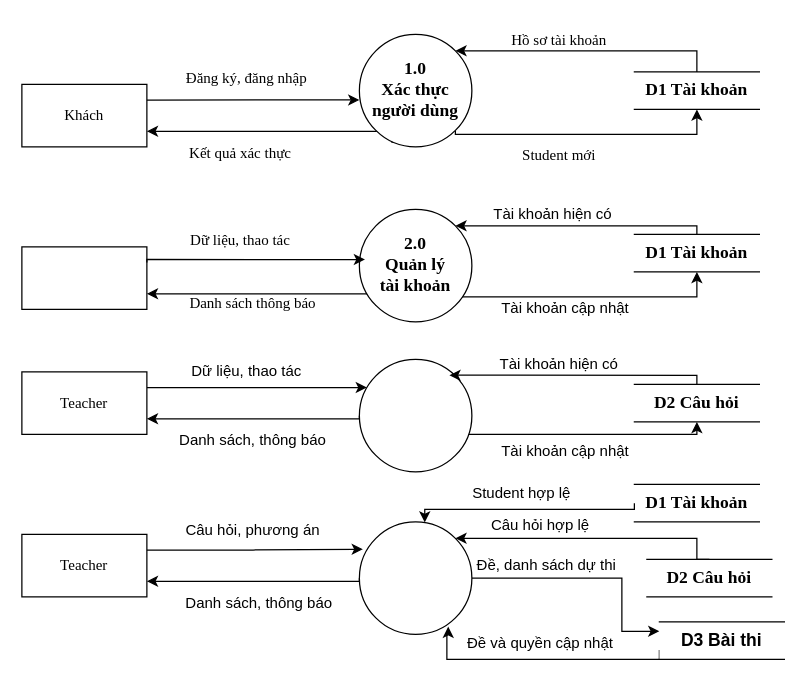
This 806x691 diagram has some shape labels left out. Here are the shapes that lost their labels. From the top down, the centre of each, then its label:
(84,277): Admin
(415,415): 3.0 Quản lý câu hỏi
(415,577): 4.0 Quản lý bài thi
